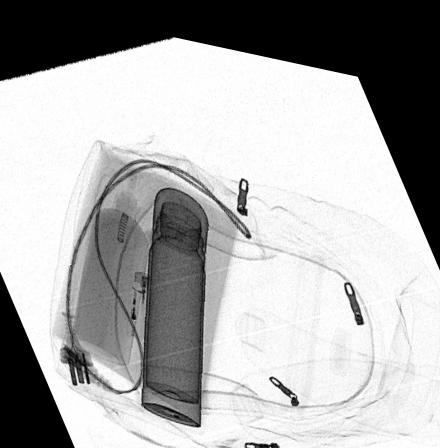Lighter: (126, 264, 149, 334)
